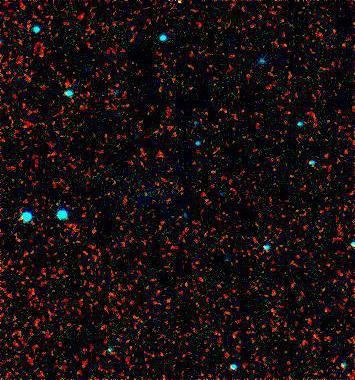star: (168, 0, 198, 18)
